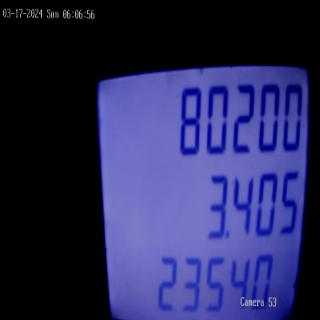screen: (84, 43, 317, 320)
